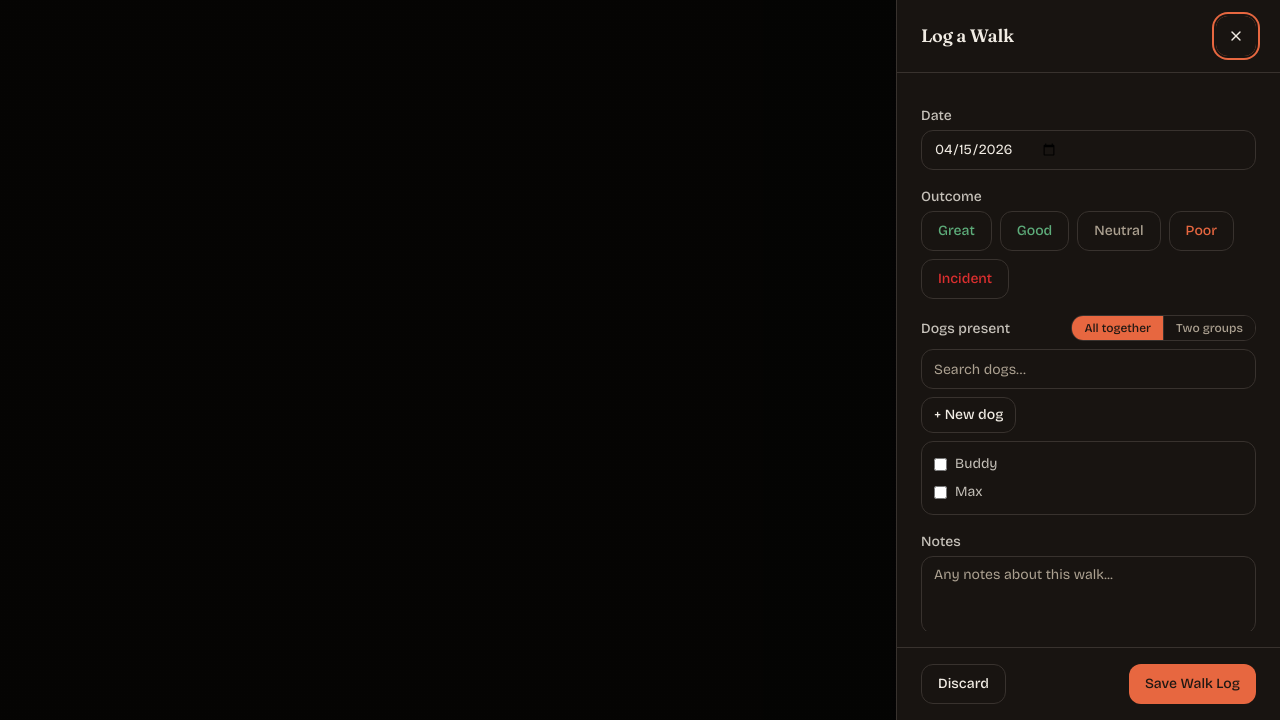
Test: WalkLogSheet - Validation › shows "Select at least one dog." when saving without dogs
# Select outcome only
Click the button "Great" at (956,231), box left=921, top=211, right=992, bottom=251
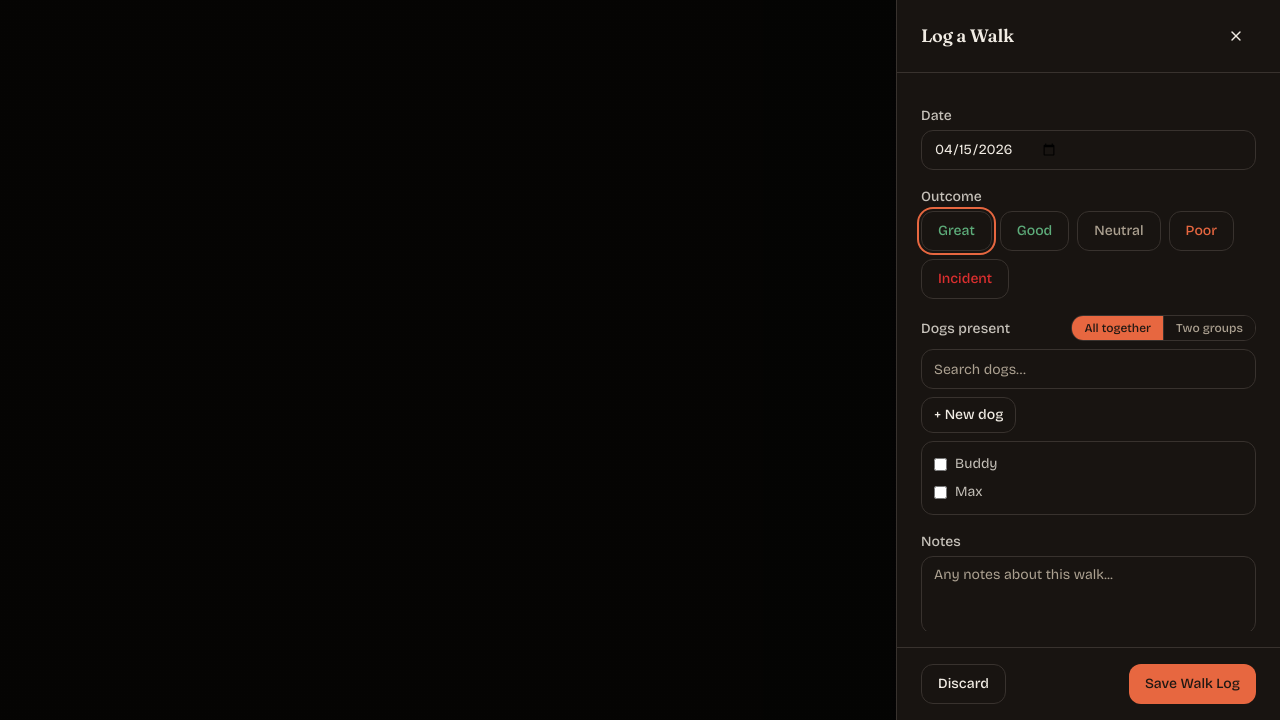
Click the button "Save Walk Log" at (1192,684), box left=1129, top=664, right=1256, bottom=704
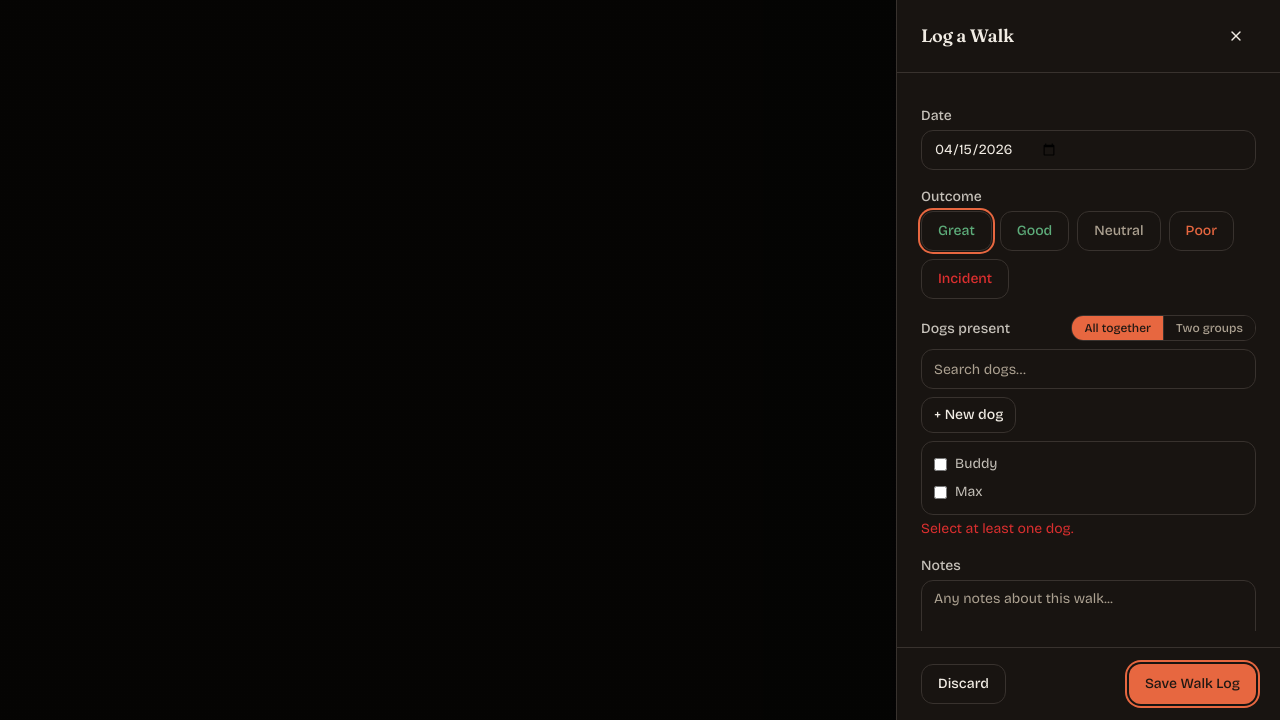
Check: the text "Select at least one dog." is shown, box left=921, top=520, right=1074, bottom=537
